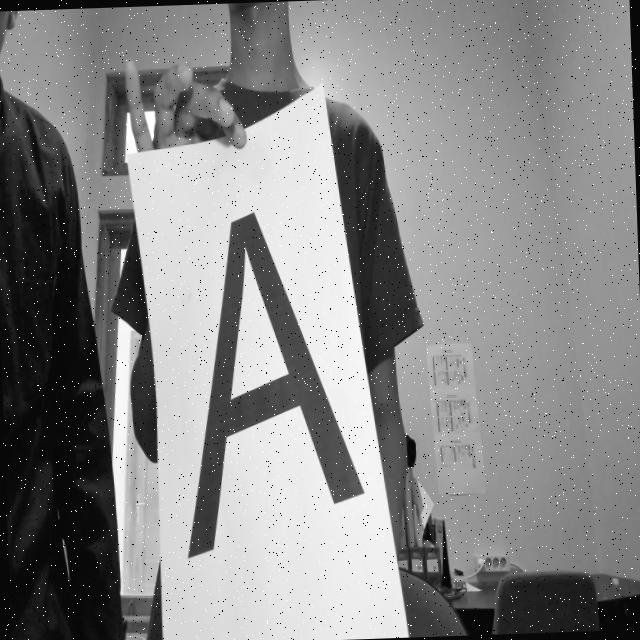a: (166, 188, 376, 590)
